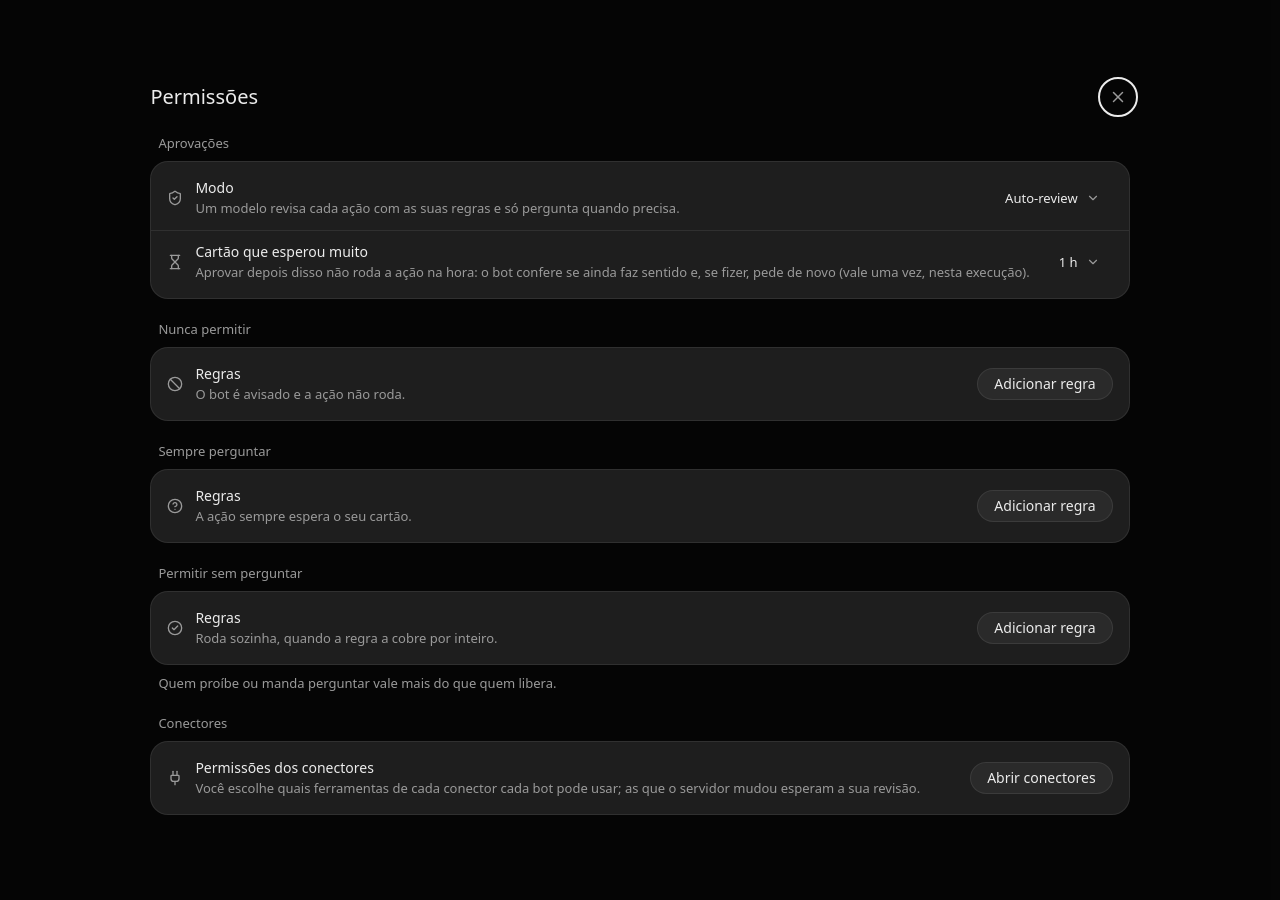
Permissões: the mode › goes back to the old mode, with a friendly sentence (never the server's raw text), when it fails
Click the dropdown with test id "approval-mode".
click(1052, 198)  # box [992,182,1113,214]
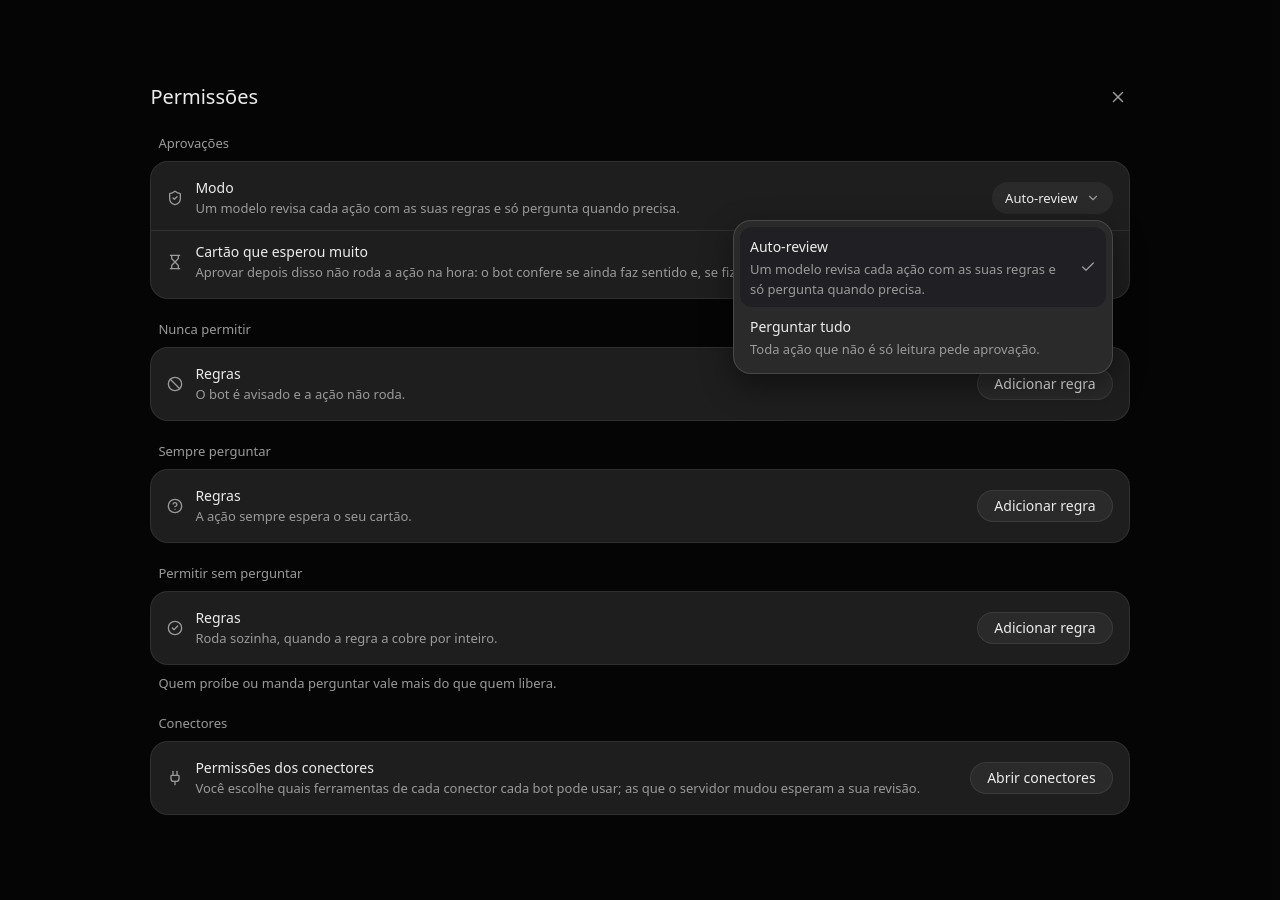
Click the option "Perguntar tudo".
click(895, 338)  # box [750,317,1040,358]
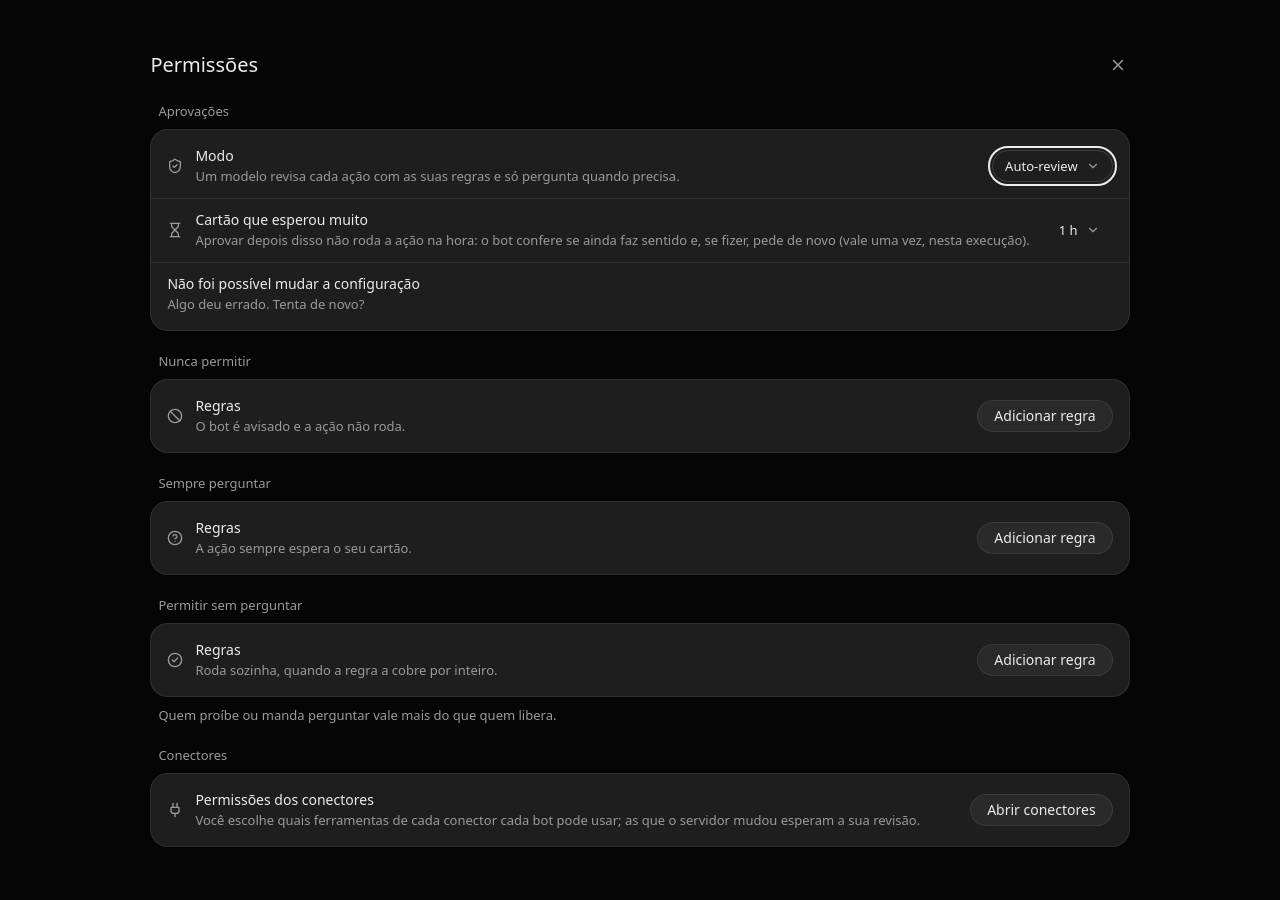
Check: the dropdown with test id "approval-mode" reads "Auto-review", box [992,150,1113,182]
Check: the element that starts with "Não foi possível mudar a configuração" shows "Algo deu errado. Tenta de novo?", box [167,295,364,313]
